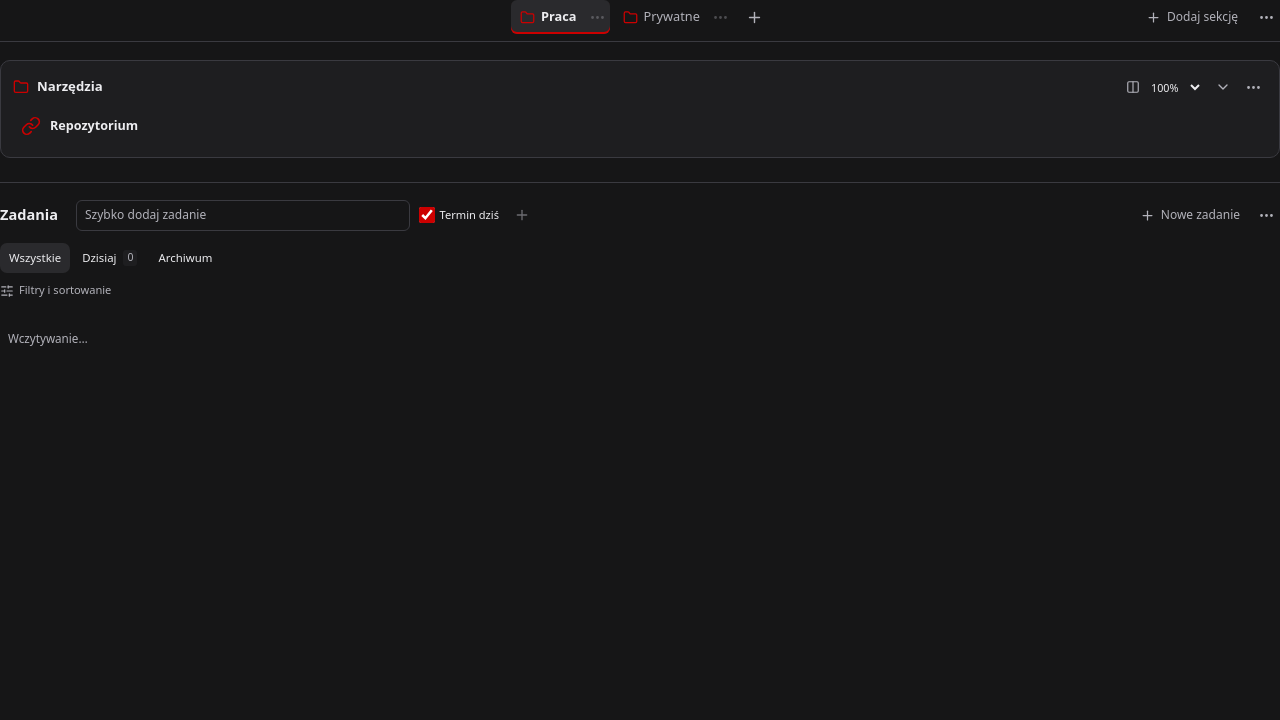
Scenario: kompaktowy dashboard › menu obsługuje nawigację klawiaturą
Right-click the link "Repozytorium": (80, 126) left=21, top=116, right=138, bottom=136
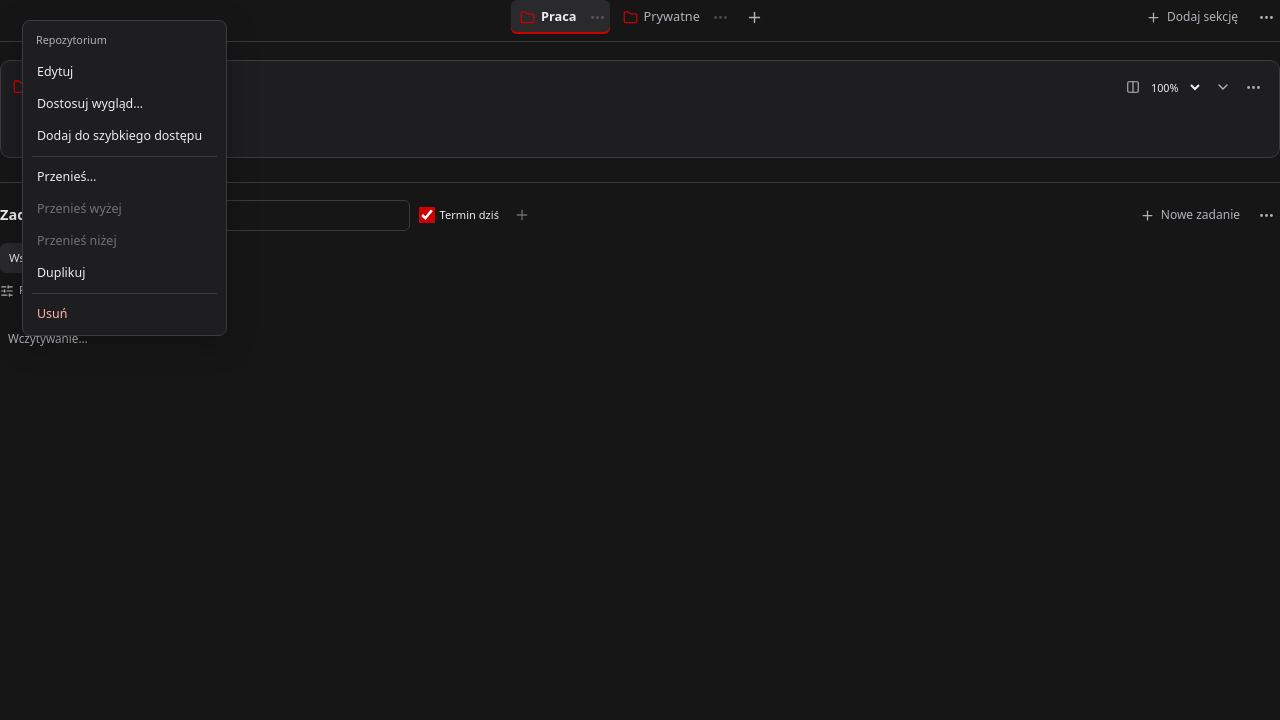
Press ArrowDown in the menu, box left=22, top=20, right=227, bottom=336
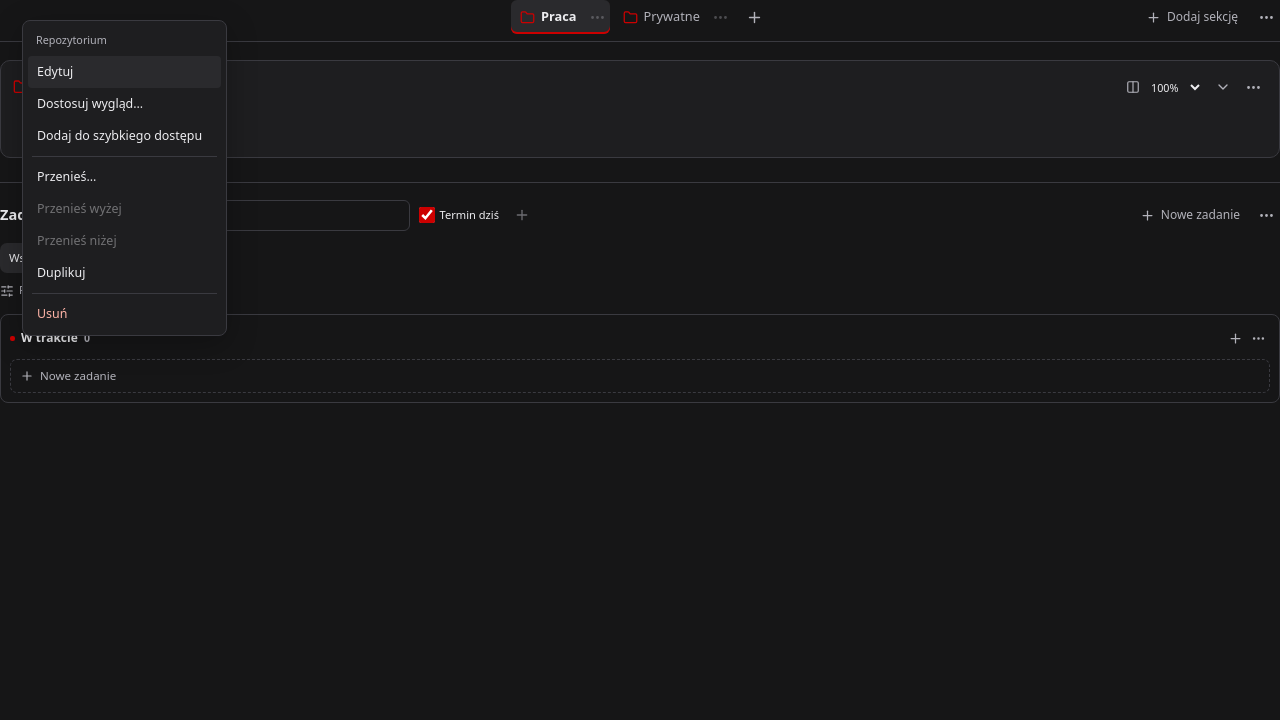
Press Enter in the menu item "Edytuj", box left=28, top=56, right=221, bottom=88
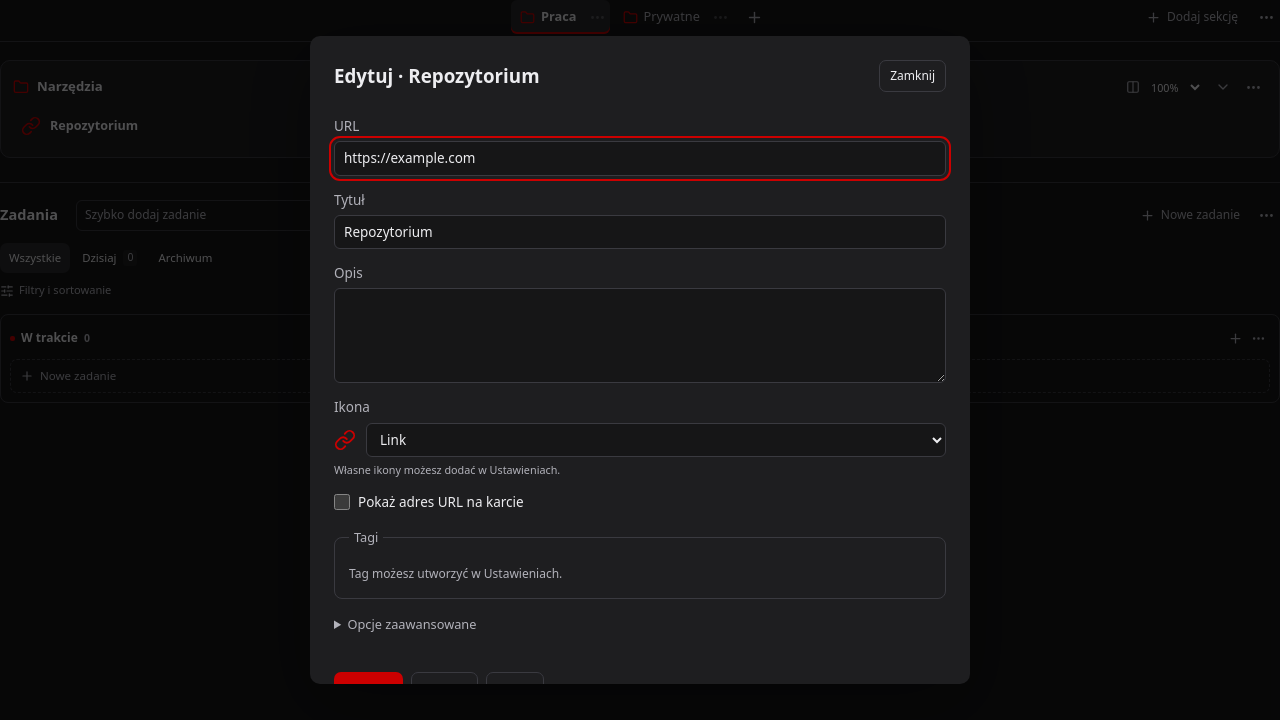
Now the dialog is shown, box left=310, top=36, right=970, bottom=684
